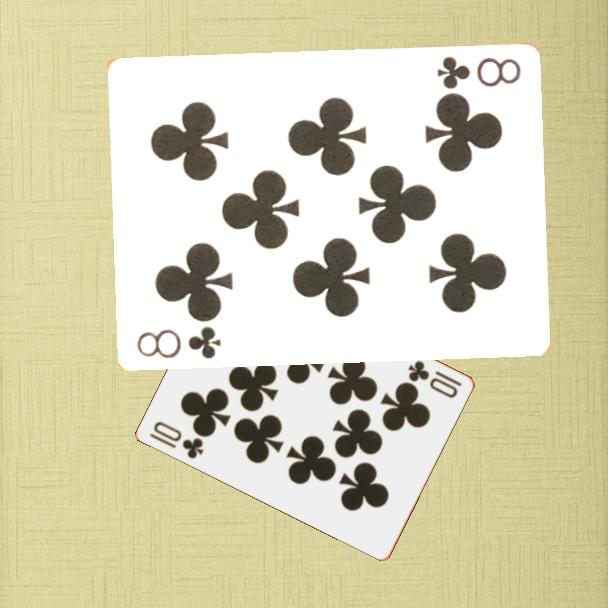c08: (133, 323, 223, 362), (433, 53, 523, 92)
c10: (404, 357, 465, 401), (146, 418, 207, 462)
